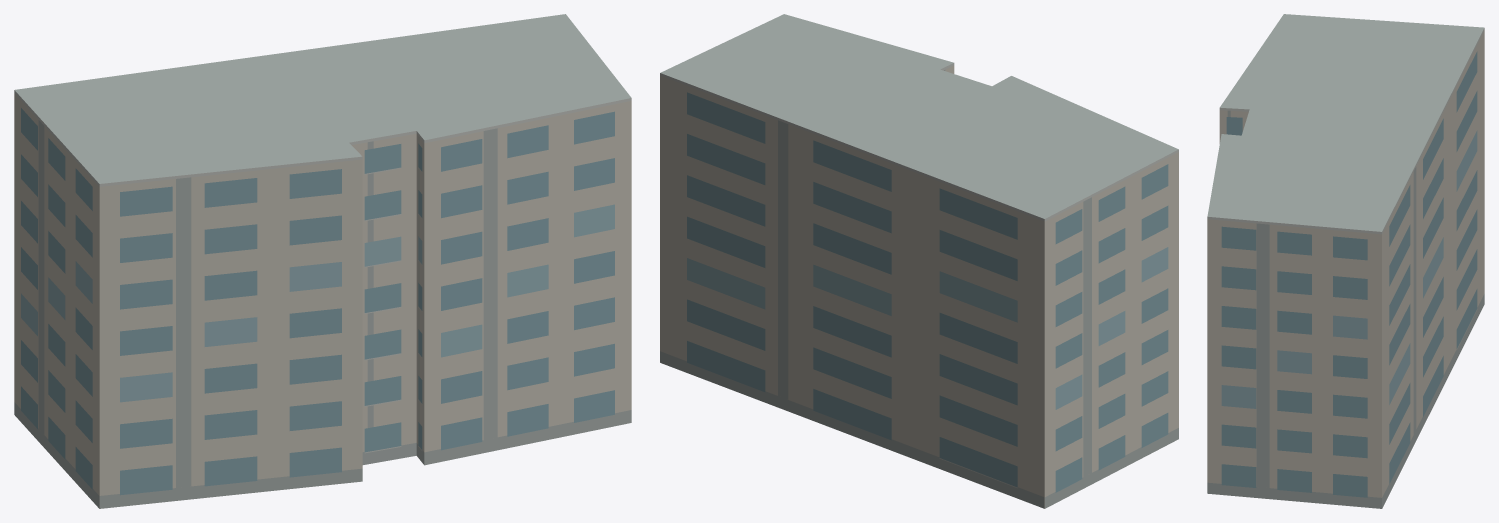
File: survey-upis-32555436.glb
The picture shows the model from 3 angles, left to right: view 1: azimuth 30°, elevation 25°; view 2: azimuth 150°, elevation 25°; view 3: azimuth 270°, elevation 25°; orthographic projection. The views are drawn at different scales.
Parts seen in each view (by area): view 1: survey-upis-32555436.tmp; view 2: survey-upis-32555436.tmp; view 3: survey-upis-32555436.tmp.
Part boxes in pixels (x1,y1,x2,y2): survey-upis-32555436.tmp: (14,14,631,508); survey-upis-32555436.tmp: (660,14,1178,508); survey-upis-32555436.tmp: (1207,14,1484,508).
Size of the model in its own units: 46.58 by 27.6 by 25.04.
